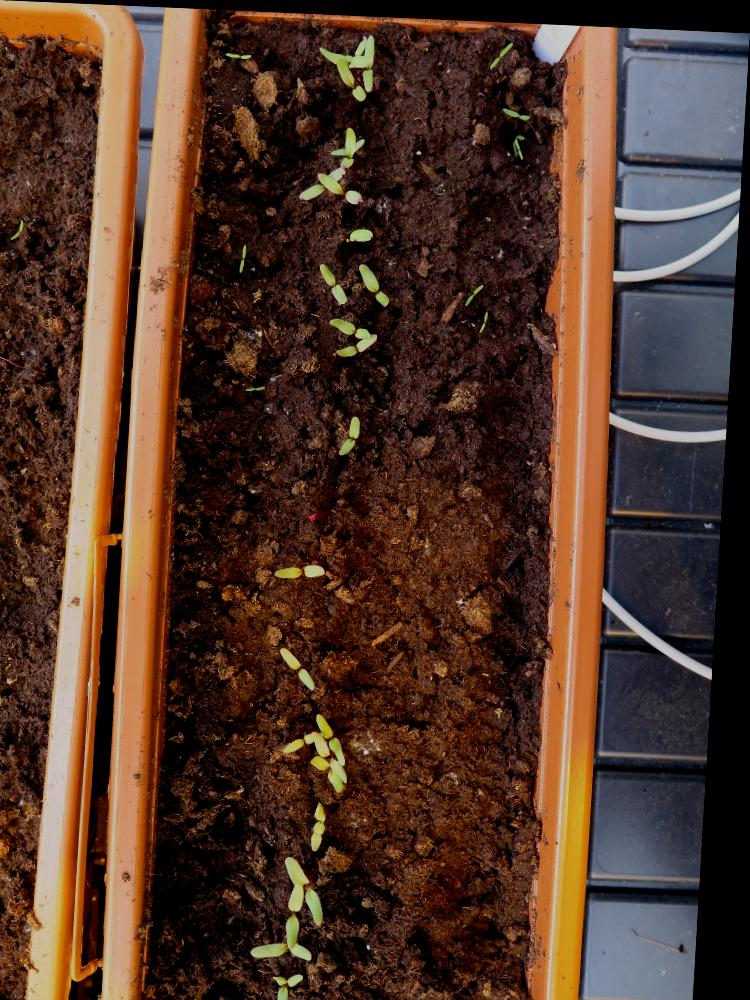crop: (283, 642, 326, 690), (358, 258, 396, 302), (318, 258, 353, 303), (278, 558, 333, 579), (342, 409, 365, 453)
weed: (487, 33, 513, 67), (466, 276, 488, 304), (500, 100, 533, 117), (10, 217, 28, 241), (0, 676, 12, 708), (481, 303, 492, 331), (224, 48, 252, 59), (240, 238, 249, 272), (245, 380, 272, 391)
